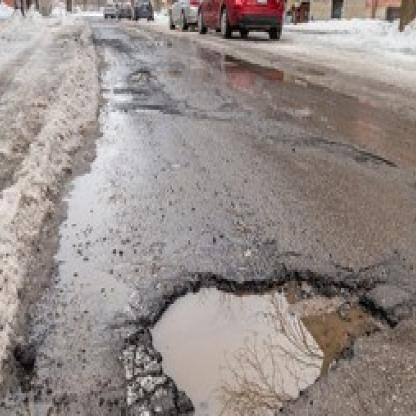pothole: (144, 267, 400, 416)
